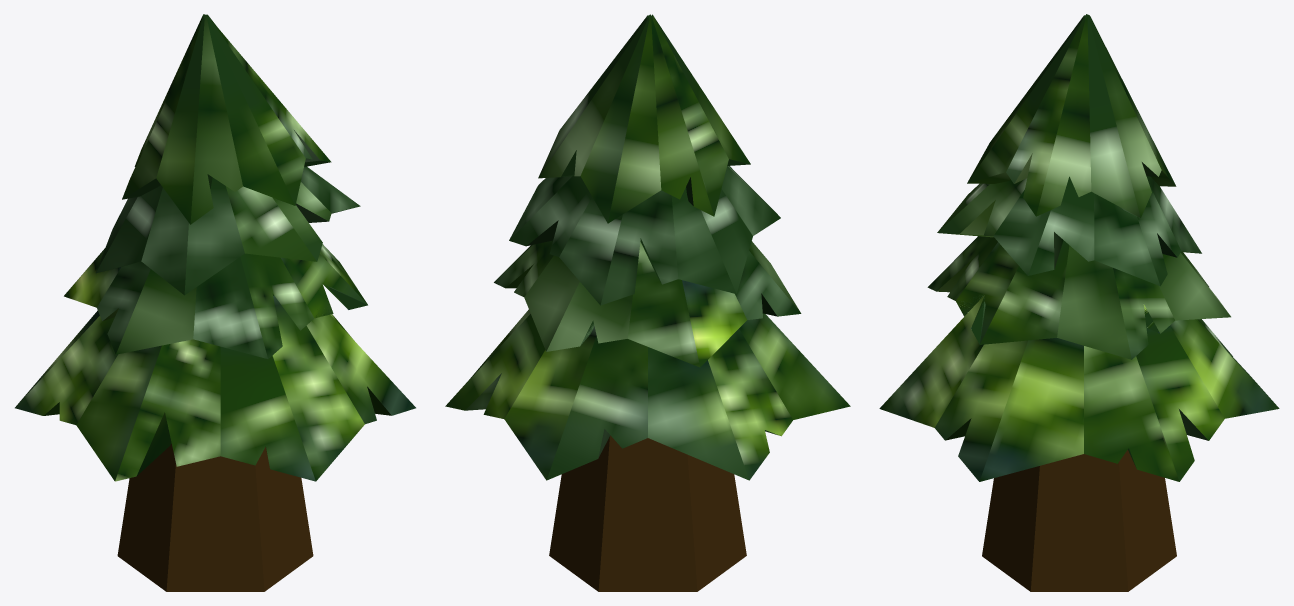
File: TreeModel.fbx
The picture shows the model from 3 angles, left to right: view 1: azimuth 30°, elevation 25°; view 2: azimuth 150°, elevation 25°; view 3: azimuth 270°, elevation 25°; orthographic projection.
Parts seen in each view (by area): view 1: Cylinder.004, Cylinder.001, Cylinder.003, Cylinder.002; view 2: Cylinder.004, Cylinder.001, Cylinder.002, Cylinder.003; view 3: Cylinder.004, Cylinder.001, Cylinder.003, Cylinder.002.
Boxes of the visible parts, <box> form: Cylinder.004: <box>15,295,415,591</box>; Cylinder.001: <box>122,14,331,224</box>; Cylinder.003: <box>64,244,367,358</box>; Cylinder.002: <box>96,166,360,295</box>; Cylinder.004: <box>445,309,850,591</box>; Cylinder.001: <box>538,14,750,223</box>; Cylinder.002: <box>509,166,780,305</box>; Cylinder.003: <box>494,240,801,367</box>; Cylinder.004: <box>879,295,1279,591</box>; Cylinder.001: <box>967,14,1176,217</box>; Cylinder.003: <box>927,236,1230,359</box>; Cylinder.002: <box>937,176,1201,286</box>.
Size of the model in its own units: 355 by 608 by 410.
Materials: 1 (1 with a texture image).
